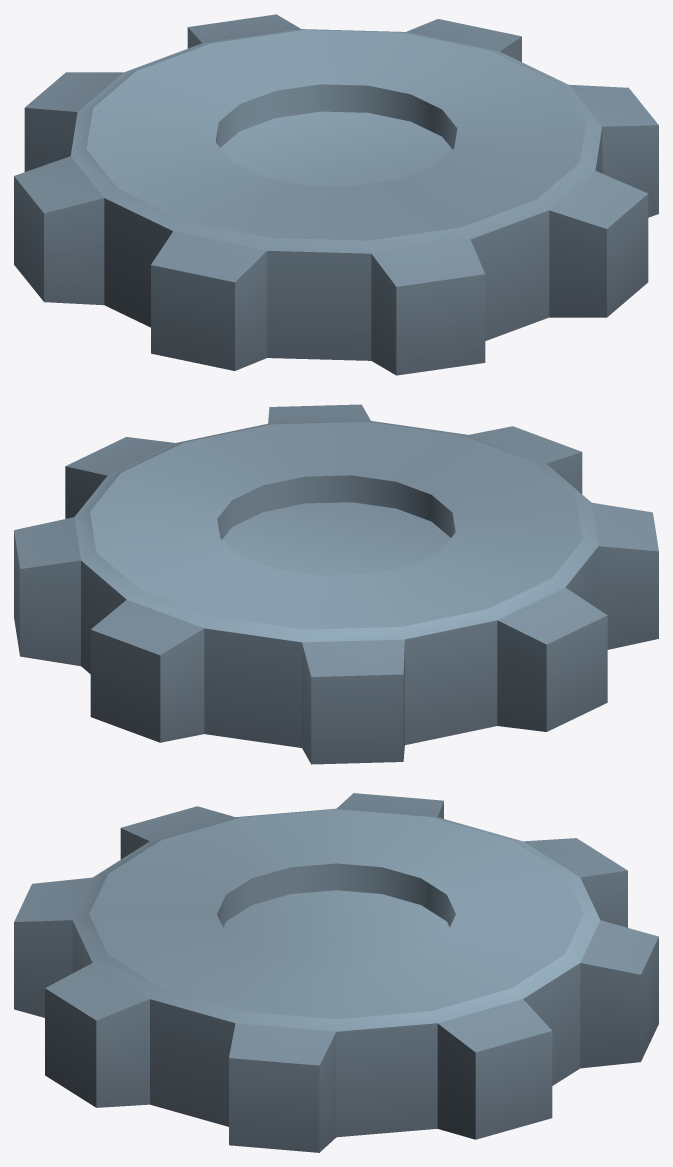
Rendered from Cog.fbx.
3 renders of one model, top to bottom at view 1: azimuth 30°, elevation 25°; view 2: azimuth 150°, elevation 25°; view 3: azimuth 270°, elevation 25°, orthographic.
Parts seen in each view (by area): view 1: Cog_PH:pCylinder1; view 2: Cog_PH:pCylinder1; view 3: Cog_PH:pCylinder1.
Boxes of the visible parts, <box> form: Cog_PH:pCylinder1: <box>14,14,658,375</box>; Cog_PH:pCylinder1: <box>14,404,658,764</box>; Cog_PH:pCylinder1: <box>14,793,658,1152</box>.
Bounding box in the file's own units: 0.3323 × 0.0668 × 0.3323.
